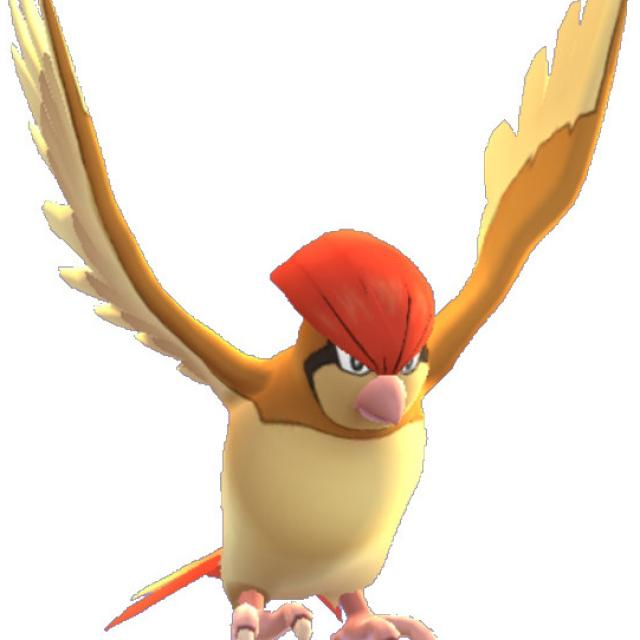Pidgeotto: (40, 108, 602, 640)
